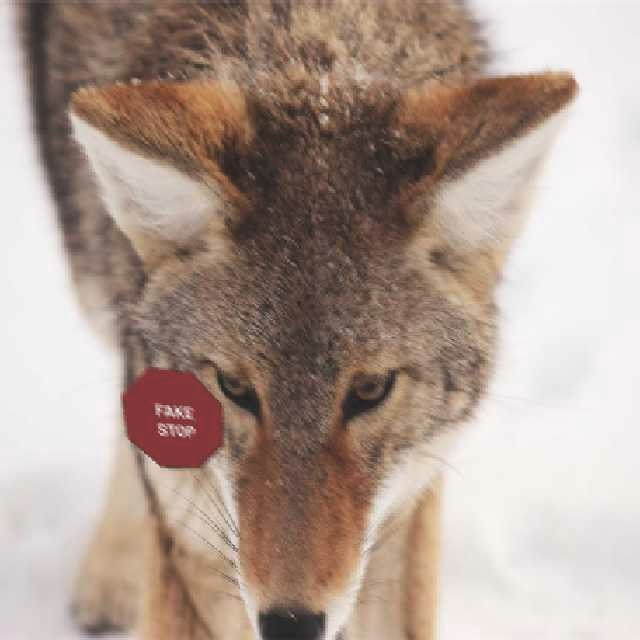FAKE_STOP: (120, 366, 224, 468)
